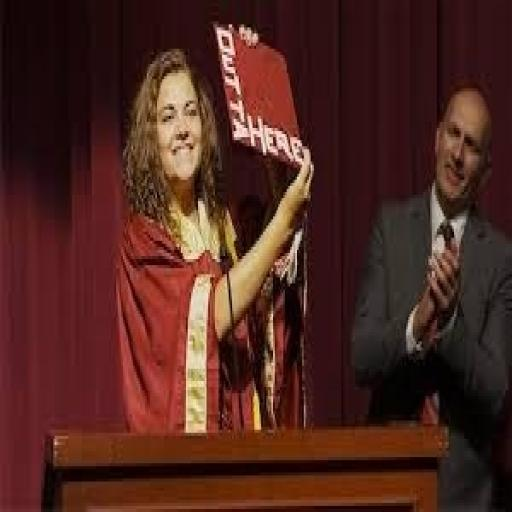clapping: (348, 73, 510, 509)
